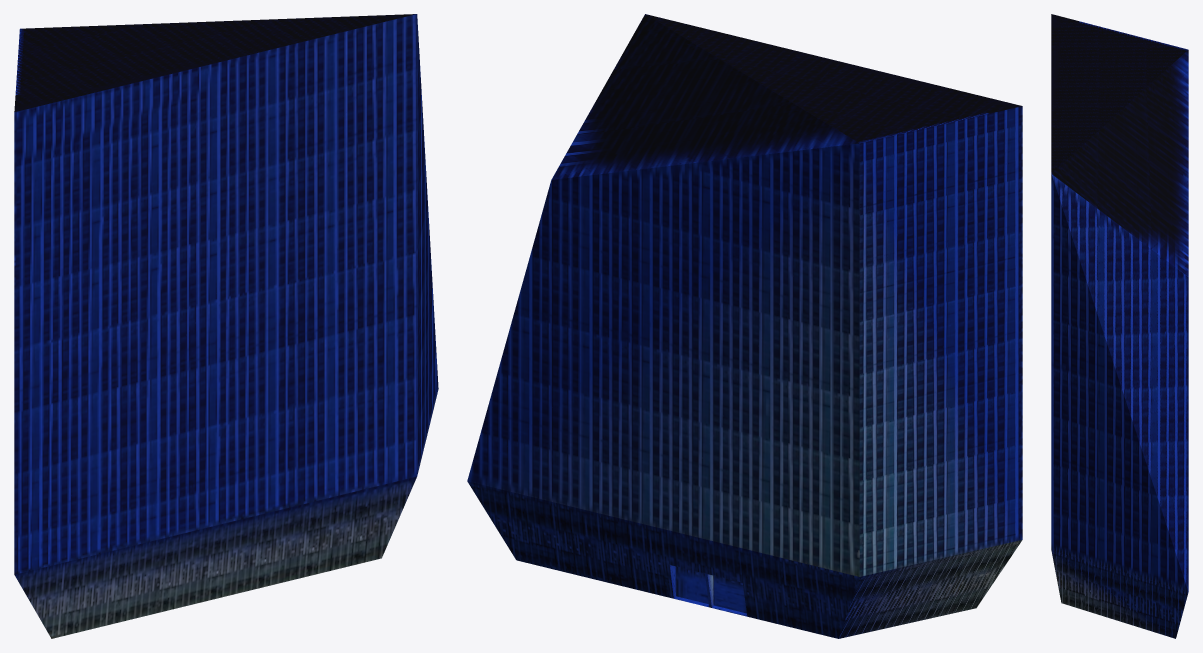
File: Babtest.glb
3 views of the same model, side by side, from view 1: azimuth 30°, elevation 25°; view 2: azimuth 150°, elevation 25°; view 3: azimuth 270°, elevation 25° (orthographic). The views are drawn at different scales.
Visible parts, largest first — view 1: Cube; view 2: Cube; view 3: Cube.
Boxes of the visible parts, bbox=[...] form: Cube: bbox=[14, 14, 438, 638]; Cube: bbox=[467, 14, 1022, 638]; Cube: bbox=[1051, 14, 1188, 638].
Bounding box in the file's own units: 83.97 × 85.5 × 24.1.
Materials: 1 (1 with a texture image).
